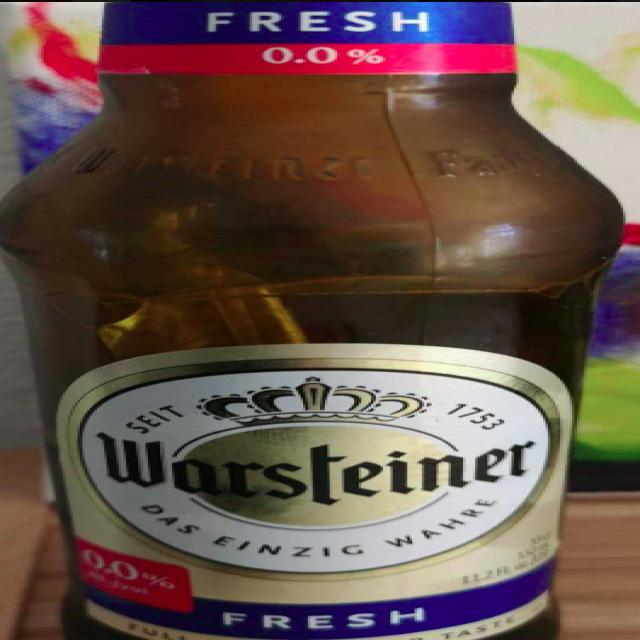Warsteiner Fresh Non-Alcoholic: (0, 0, 640, 640)
